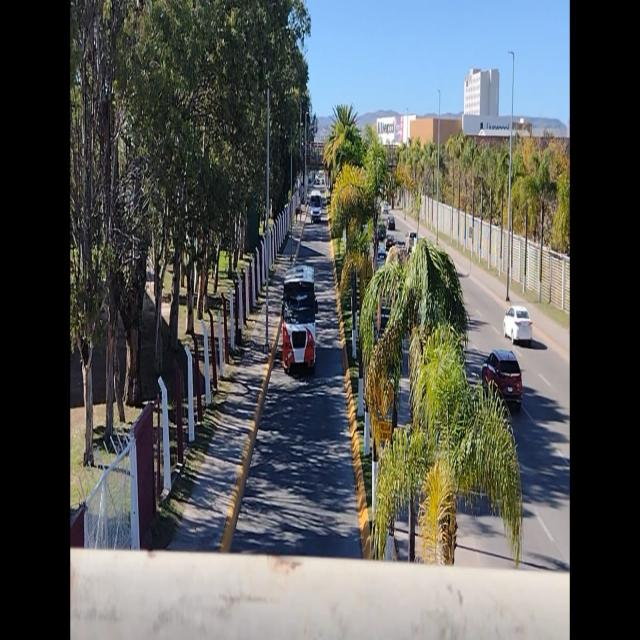Auto: (502, 299, 536, 348)
Autobus: (278, 261, 322, 379), (308, 184, 323, 228)
